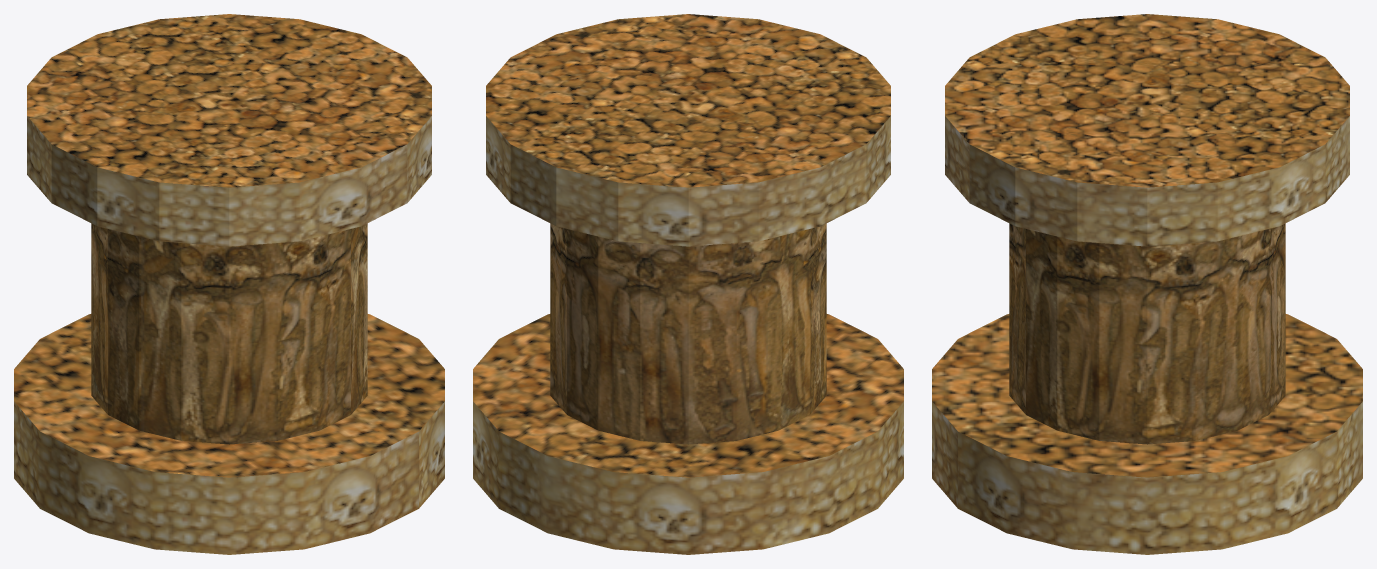
File: skull_pillar.FBX
3 renders of one model, left to right at view 1: azimuth 30°, elevation 25°; view 2: azimuth 150°, elevation 25°; view 3: azimuth 270°, elevation 25°, orthographic.
Visible parts, largest first — view 1: Cylinder001; view 2: Cylinder001; view 3: Cylinder001.
Boxes of the visible parts, box(x1,y1,x2,y2) form: Cylinder001: box(14, 14, 444, 554); Cylinder001: box(473, 14, 903, 554); Cylinder001: box(932, 14, 1362, 554).
Size of the model in its own units: 58.39 by 53.25 by 57.5.
Materials: 1 (1 with a texture image).
